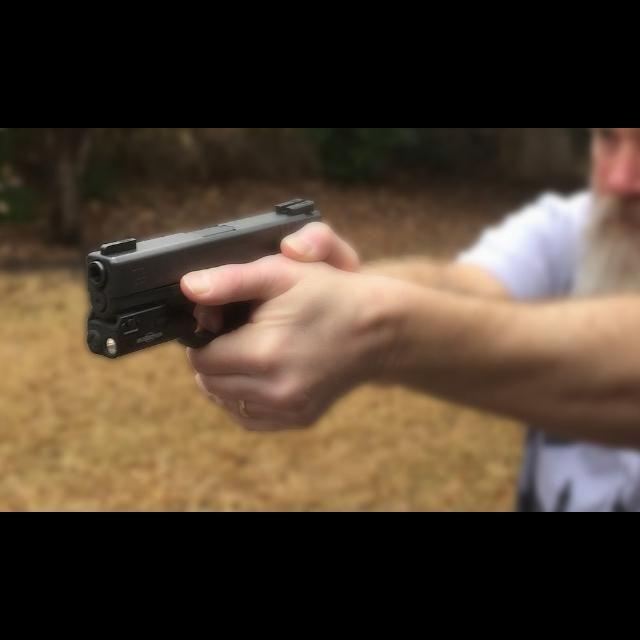handgun: (80, 194, 322, 362)
